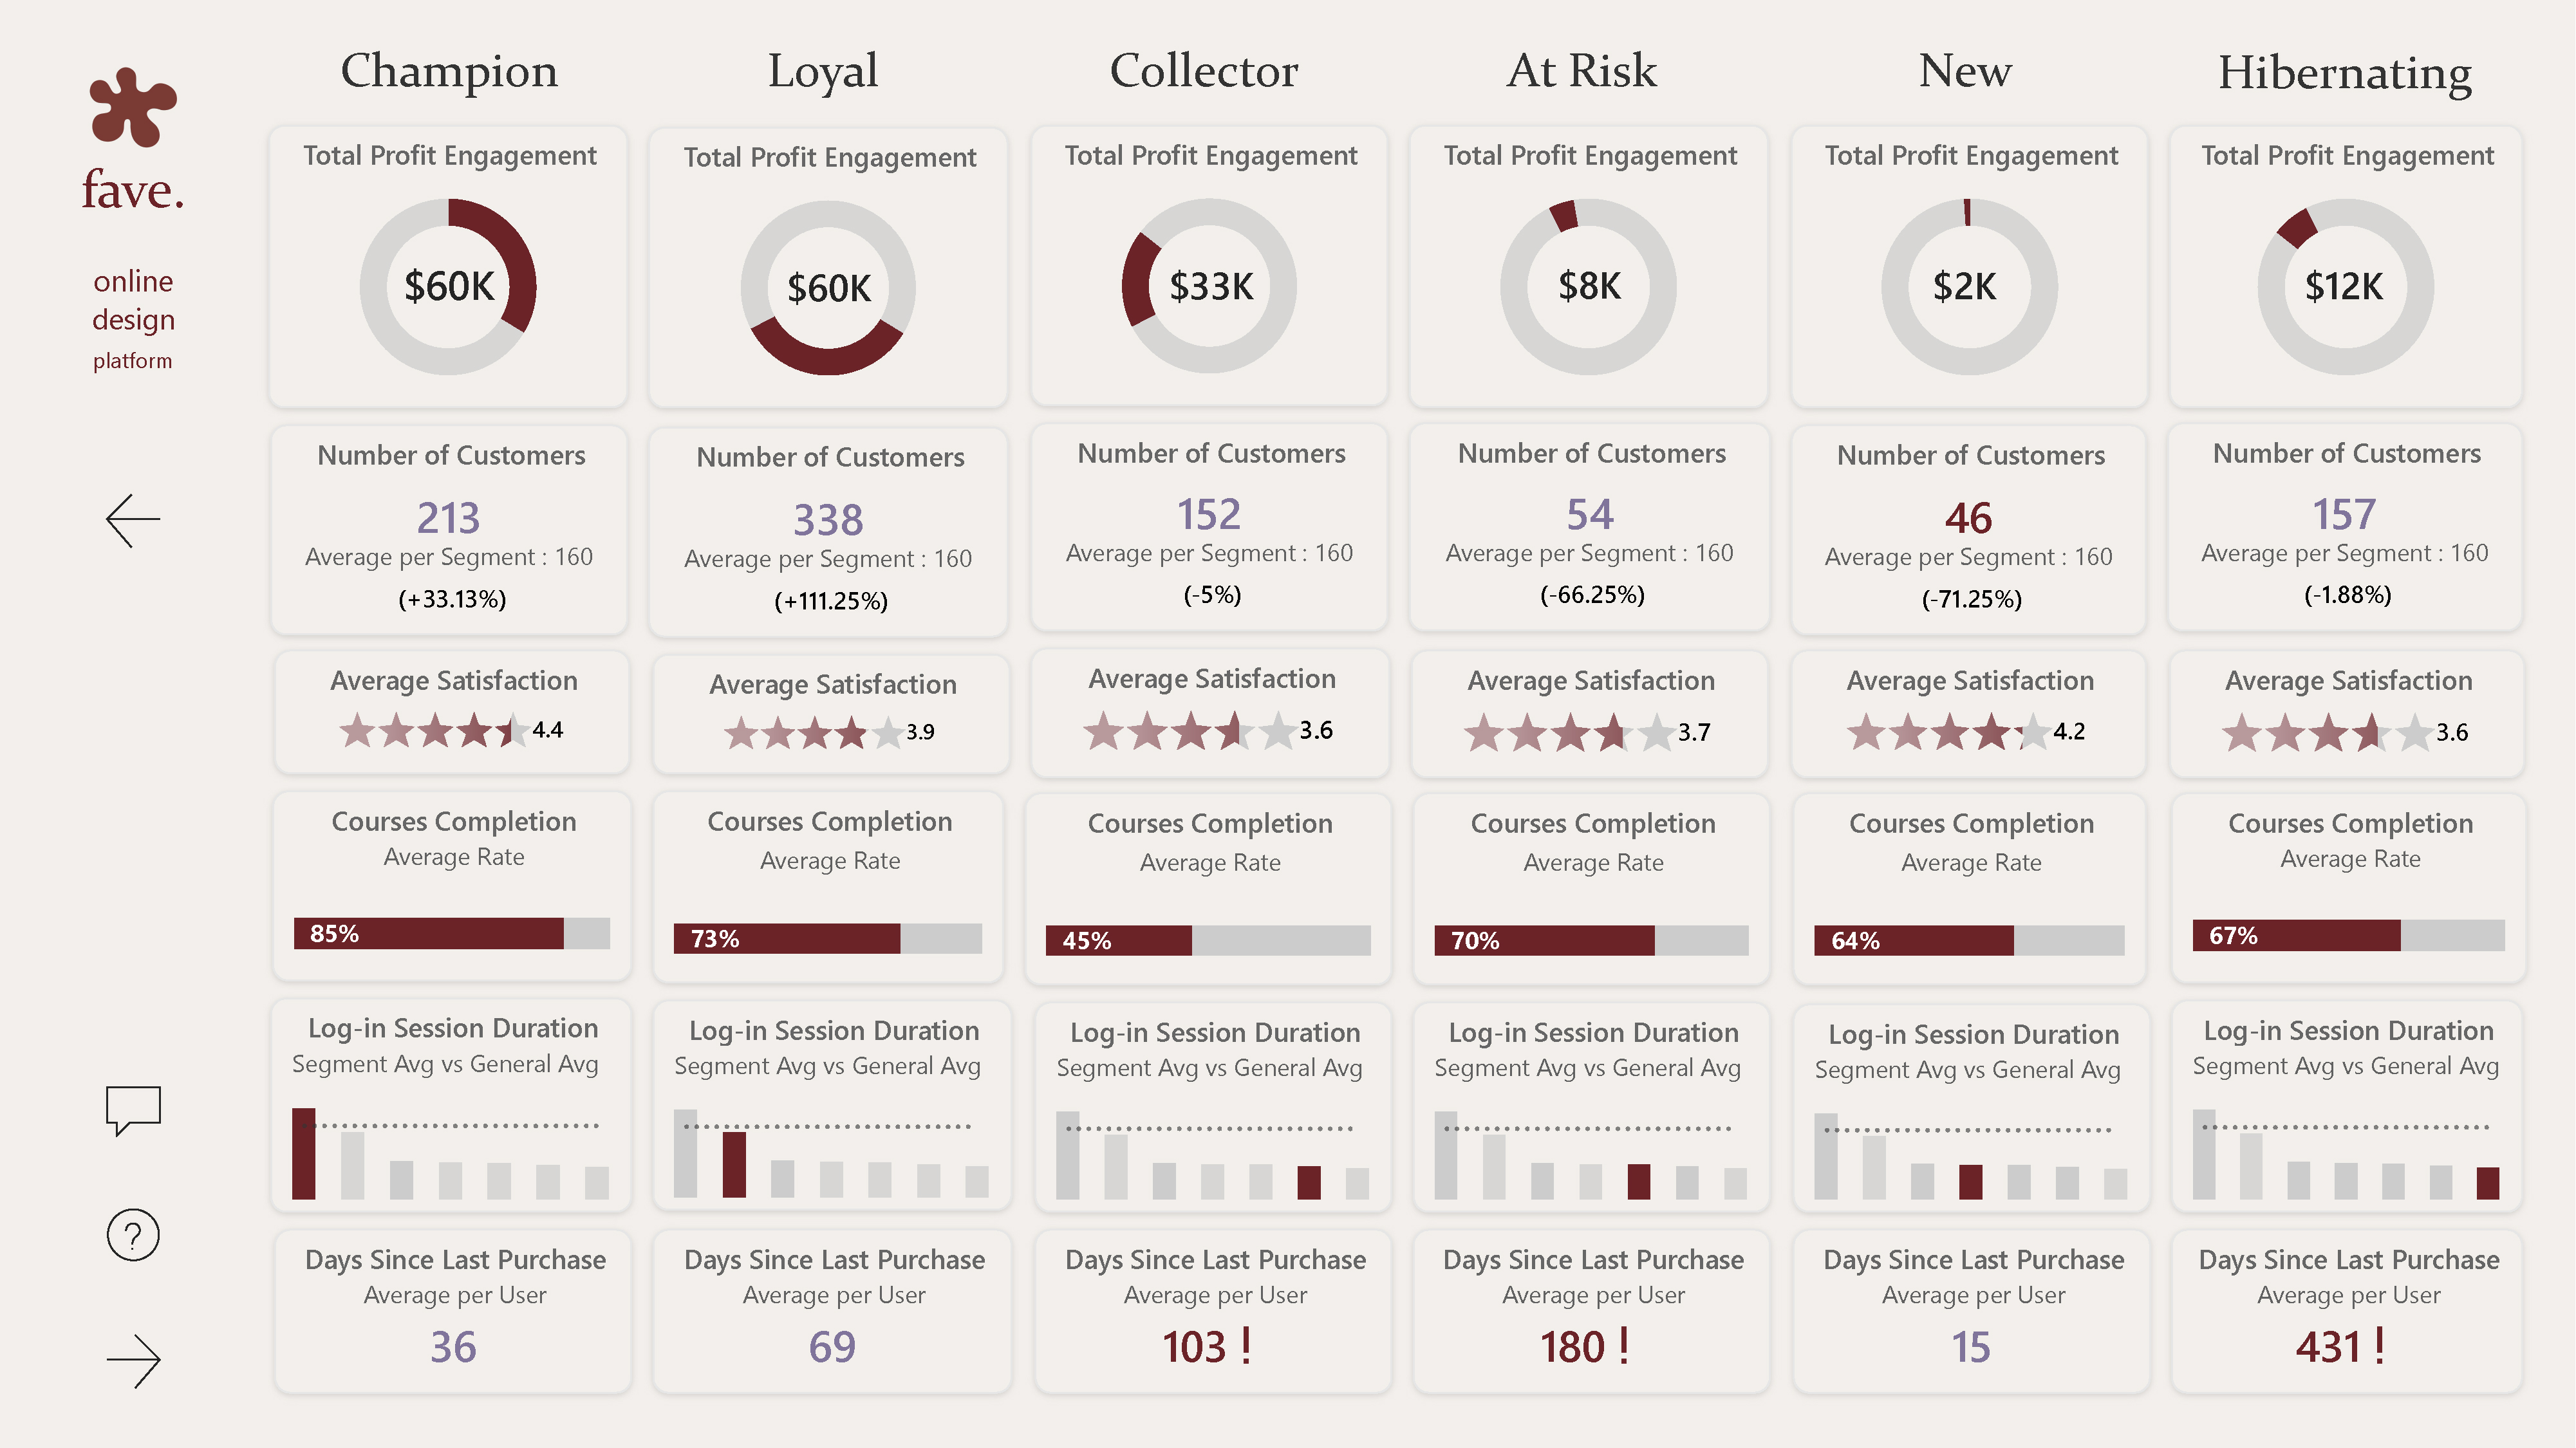

What the dashboard file says about the page in this screenshot:
{"tool":"powerbi","page":{"name":"Segmentation Dashboard","canvas":[1280,720],"ordinal":1},"visuals":[{"type":"image","box":[39.7,28.1,52.5,50],"z":0},{"type":"hundredPercentStackedBarChart","title":"Courses Completion","fields":{"Category":["segmentation.segment"],"Y":["Measure Table.Avg Completion Rate","Measure Table.Avg Miscompletion Rate"]},"box":[135.3,392.7,179,95.1],"z":1000},{"type":"actionButton","box":[43,239.7,45,38.3],"z":2000},{"type":"actionButton","box":[43,593,45,41.7],"z":3000},{"type":"actionButton","box":[43,532.2,45,40.8],"z":4000},{"type":"actionButton","box":[47.2,658.9,36.7,35],"z":5000},{"type":"textbox","box":[32,77.8,68.3,137.8],"z":6000},{"type":"donutChart","title":"Total Profit Engagement","fields":{"Category":["segmentation.segment"],"Y":["Measure Table.Total Profit"]},"box":[133.3,62,179,140.7],"z":7000},{"type":"card","fields":{"Values":["Measure Table.Total Profit"]},"box":[187.8,107.8,70,70],"z":8000},{"type":"donutChart","title":"Total Profit Engagement","fields":{"Category":["segmentation.segment"],"Y":["Measure Table.Total Profit"]},"box":[322.2,62.5,179,140.7],"z":9000},{"type":"card","fields":{"Values":["Measure Table.Total Profit"]},"box":[376.7,107.8,70,73.3],"z":10000},{"type":"donutChart","title":"Total Profit Engagement","fields":{"Category":["segmentation.segment"],"Y":["Measure Table.Total Profit"]},"box":[512.3,61.7,177.8,140.7],"z":11000},{"type":"card","fields":{"Values":["Measure Table.Total Profit"]},"box":[565.6,106.7,72.2,73.3],"z":12000},{"type":"donutChart","title":"Total Profit Engagement","fields":{"Category":["segmentation.segment"],"Y":["Measure Table.Total Profit"]},"box":[700,61.8,179,140.7],"z":13000},{"type":"card","fields":{"Values":["Measure Table.Total Profit"]},"box":[754.4,106.7,71.1,72.2],"z":14000},{"type":"donutChart","title":"Total Profit Engagement","fields":{"Category":["segmentation.segment"],"Y":["Measure Table.Total Profit"]},"box":[890.1,62.3,177.8,140.7],"z":15000},{"type":"card","fields":{"Values":["Measure Table.Total Profit"]},"box":[941.1,106.7,71.1,73.3],"z":16000},{"type":"donutChart","title":"Total Profit Engagement","fields":{"Category":["segmentation.segment"],"Y":["Measure Table.Total Profit"]},"box":[1077.8,61.8,176.5,140.7],"z":17000},{"type":"card","fields":{"Values":["Measure Table.Total Profit"]},"box":[1128.9,106.7,72.2,73.3],"z":18000},{"type":"textbox","box":[133.9,20.3,178.6,33.8],"z":19000},{"type":"textbox","box":[319.7,20.3,178.6,33.8],"z":20000},{"type":"textbox","box":[509.1,20.3,178.6,33.8],"z":21000},{"type":"textbox","box":[697.3,20.3,178.6,33.8],"z":22000},{"type":"textbox","box":[887.9,20.3,178.6,33.8],"z":23000},{"type":"textbox","box":[1076.1,21.5,178.6,32.6],"z":24000},{"type":"PBI_CV_9053509D_D461_463A_B485_CE9F6AB0F13D","title":"Average Satisfaction","fields":{"value":["Measure Table.Avg Segment Rating"]},"box":[135.6,323.1,177.8,61.7],"z":25000},{"type":"kpi","title":"Days Since Last Purchase","fields":{"Goal":["Measure Table.Target Max Recency"],"Indicator":["Measure Table.Avg Recency"],"TrendLine":["calendar.date.Variation.Date Hierarchy.Quarter"]},"box":[1078.9,611.1,175.6,82.2],"z":26000},{"type":"lineClusteredColumnComboChart","title":"Log-in Session Duration","fields":{"Category":["segmentation.segment"],"Y":["Measure Table.Avg Session Duration"],"Y2":["Measure Table.Platform Avg Session Duration"]},"box":[134.4,495.6,180,107.8],"z":27000},{"type":"PBI_CV_9053509D_D461_463A_B485_CE9F6AB0F13D","title":"Average Satisfaction","fields":{"value":["Measure Table.Avg Segment Rating"]},"box":[323.7,324.6,177.8,60.5],"z":28000},{"type":"PBI_CV_9053509D_D461_463A_B485_CE9F6AB0F13D","title":"Average Satisfaction","fields":{"value":["Measure Table.Avg Segment Rating"]},"box":[511.9,322.3,178.9,64.4],"z":29000},{"type":"hundredPercentStackedBarChart","title":"Courses Completion","fields":{"Category":["segmentation.segment"],"Y":["Measure Table.Avg Completion Rate","Measure Table.Avg Miscompletion Rate"]},"box":[324.4,393.3,174.4,95.6],"z":30000},{"type":"lineClusteredColumnComboChart","title":"Log-in Session Duration","fields":{"Category":["segmentation.segment"],"Y":["Measure Table.Avg Session Duration"],"Y2":["Measure Table.Platform Avg Session Duration"]},"box":[324.4,496.7,178.9,105.6],"z":31000},{"type":"PBI_CV_9053509D_D461_463A_B485_CE9F6AB0F13D","title":"Average Satisfaction","fields":{"value":["Measure Table.Avg Segment Rating"]},"box":[701.2,322.5,177.8,64.2],"z":32000},{"type":"PBI_CV_9053509D_D461_463A_B485_CE9F6AB0F13D","title":"Average Satisfaction","fields":{"value":["Measure Table.Avg Segment Rating"]},"box":[890,323.3,176.7,63.3],"z":33000},{"type":"hundredPercentStackedBarChart","title":"Courses Completion","fields":{"Category":["segmentation.segment"],"Y":["Measure Table.Avg Completion Rate","Measure Table.Avg Miscompletion Rate"]},"box":[508.9,394.4,183.3,95.6],"z":34000},{"type":"lineClusteredColumnComboChart","title":"Log-in Session Duration","fields":{"Category":["segmentation.segment"],"Y":["Measure Table.Avg Session Duration"],"Y2":["Measure Table.Platform Avg Session Duration"]},"box":[514.4,497.8,177.8,105.6],"z":35000},{"type":"PBI_CV_9053509D_D461_463A_B485_CE9F6AB0F13D","title":"Average Satisfaction","fields":{"value":["Measure Table.Avg Segment Rating"]},"box":[1077.5,322.5,177.8,64.2],"z":36000},{"type":"hundredPercentStackedBarChart","title":"Courses Completion","fields":{"Category":["segmentation.segment"],"Y":["Measure Table.Avg Completion Rate","Measure Table.Avg Miscompletion Rate"]},"box":[702.4,394.5,177.8,95.1],"z":37000},{"type":"lineClusteredColumnComboChart","title":"Log-in Session Duration","fields":{"Category":["segmentation.segment"],"Y":["Measure Table.Avg Session Duration"],"Y2":["Measure Table.Platform Avg Session Duration"]},"box":[702.2,497.8,177.8,105.6],"z":38000},{"type":"hundredPercentStackedBarChart","title":"Courses Completion","fields":{"Category":["segmentation.segment"],"Y":["Measure Table.Avg Completion Rate","Measure Table.Avg Miscompletion Rate"]},"box":[891.1,394.4,175.6,95.6],"z":39000},{"type":"lineClusteredColumnComboChart","title":"Log-in Session Duration","fields":{"Category":["segmentation.segment"],"Y":["Measure Table.Avg Session Duration"],"Y2":["Measure Table.Platform Avg Session Duration"]},"box":[891.1,498.9,177.8,104.4],"z":40000},{"type":"hundredPercentStackedBarChart","title":"Courses Completion","fields":{"Category":["segmentation.segment"],"Y":["Measure Table.Avg Completion Rate","Measure Table.Avg Miscompletion Rate"]},"box":[1078.9,394.5,176.7,94.4],"z":41000},{"type":"lineClusteredColumnComboChart","title":"Log-in Session Duration","fields":{"Category":["segmentation.segment"],"Y":["Measure Table.Avg Session Duration"],"Y2":["Measure Table.Platform Avg Session Duration"]},"box":[1078.9,496.7,175.6,106.7],"z":42000},{"type":"kpi","title":"Days Since Last Purchase","fields":{"Goal":["Measure Table.Target Max Recency"],"Indicator":["Measure Table.Avg Recency"],"TrendLine":["calendar.date.Variation.Date Hierarchy.Quarter"]},"box":[891.1,611.1,177.8,82.2],"z":43000},{"type":"kpi","title":"Days Since Last Purchase","fields":{"Goal":["Measure Table.Target Max Recency"],"Indicator":["Measure Table.Avg Recency"],"TrendLine":["calendar.date.Variation.Date Hierarchy.Quarter"]},"box":[702.2,611.1,177.8,82.2],"z":44000},{"type":"kpi","title":"Days Since Last Purchase","fields":{"Goal":["Measure Table.Target Max Recency"],"Indicator":["Measure Table.Avg Recency"],"TrendLine":["calendar.date.Variation.Date Hierarchy.Quarter"]},"box":[514.4,611.1,177.8,82.2],"z":45000},{"type":"kpi","title":"Days Since Last Purchase","fields":{"Goal":["Measure Table.Target Max Recency"],"Indicator":["Measure Table.Avg Recency"],"TrendLine":["calendar.date.Variation.Date Hierarchy.Quarter"]},"box":[324.4,611.1,178.9,82.2],"z":46000},{"type":"kpi","title":"Days Since Last Purchase","fields":{"Goal":["Measure Table.Target Max Recency"],"Indicator":["Measure Table.Avg Recency"],"TrendLine":["calendar.date.Variation.Date Hierarchy.Quarter"]},"box":[135.6,611.1,178.9,82.2],"z":47000},{"type":"kpi","title":"Number of Customers","fields":{"Goal":["Measure Table.Avg Number of Customers per Segment"],"Indicator":["Measure Table.Total Customers"],"TrendLine":["calendar.date"]},"box":[1076.7,210,177.8,104.4],"z":48000},{"type":"kpi","title":"Number of Customers","fields":{"Goal":["Measure Table.Avg Number of Customers per Segment"],"Indicator":["Measure Table.Total Customers"],"TrendLine":["calendar.date"]},"box":[890,211.1,176.7,104.4],"z":49000},{"type":"kpi","title":"Number of Customers","fields":{"Goal":["Measure Table.Avg Number of Customers per Segment"],"Indicator":["Measure Table.Total Customers"],"TrendLine":["calendar.date"]},"box":[700,210,180,104.4],"z":50000},{"type":"kpi","title":"Number of Customers","fields":{"Goal":["Measure Table.Avg Number of Customers per Segment"],"Indicator":["Measure Table.Total Customers"],"TrendLine":["calendar.date"]},"box":[512.2,210,177.8,104.4],"z":51000},{"type":"kpi","title":"Number of Customers","fields":{"Goal":["Measure Table.Avg Number of Customers per Segment"],"Indicator":["Measure Table.Total Customers"],"TrendLine":["calendar.date"]},"box":[322.2,212.2,178.9,104.4],"z":52000},{"type":"kpi","title":"Number of Customers","fields":{"Goal":["Measure Table.Avg Number of Customers per Segment"],"Indicator":["Measure Table.Total Customers"],"TrendLine":["calendar.date"]},"box":[134.4,211.1,177.8,104.4],"z":53000}]}

Visuals, with their boxes in screenshot pixels (x1, y1, x2, y2), scaled from the page's 1280x720 canvas onto the 2576x1448 screenshot:
image: detection(80, 57, 185, 157)
"Courses Completion" hundredPercentStackedBarChart: detection(272, 790, 633, 981)
actionButton: detection(86, 482, 177, 559)
actionButton: detection(86, 1193, 177, 1276)
actionButton: detection(86, 1070, 177, 1153)
actionButton: detection(95, 1325, 169, 1395)
textbox: detection(64, 156, 202, 434)
"Total Profit Engagement" donutChart: detection(268, 125, 628, 407)
card - Measure Table.Total Profit: detection(378, 217, 519, 358)
"Total Profit Engagement" donutChart: detection(648, 125, 1009, 409)
card - Measure Table.Total Profit: detection(758, 217, 899, 364)
"Total Profit Engagement" donutChart: detection(1031, 124, 1389, 407)
card - Measure Table.Total Profit: detection(1138, 214, 1283, 362)
"Total Profit Engagement" donutChart: detection(1409, 124, 1769, 407)
card - Measure Table.Total Profit: detection(1518, 214, 1661, 360)
"Total Profit Engagement" donutChart: detection(1791, 125, 2149, 408)
card - Measure Table.Total Profit: detection(1894, 214, 2037, 362)
"Total Profit Engagement" donutChart: detection(2169, 124, 2525, 407)
card - Measure Table.Total Profit: detection(2272, 214, 2417, 362)
textbox: detection(270, 41, 629, 109)
textbox: detection(644, 41, 1003, 109)
textbox: detection(1025, 41, 1384, 109)
textbox: detection(1403, 41, 1763, 109)
textbox: detection(1787, 41, 2146, 109)
textbox: detection(2165, 43, 2525, 109)
"Average Satisfaction" PBI_CV_9053509D_D461_463A_B485_CE9F6AB0F13D: detection(273, 650, 631, 774)
"Days Since Last Purchase" kpi: detection(2171, 1229, 2525, 1395)
"Log-in Session Duration" lineClusteredColumnComboChart: detection(270, 997, 633, 1214)
"Average Satisfaction" PBI_CV_9053509D_D461_463A_B485_CE9F6AB0F13D: detection(651, 653, 1009, 774)
"Average Satisfaction" PBI_CV_9053509D_D461_463A_B485_CE9F6AB0F13D: detection(1030, 648, 1390, 777)
"Courses Completion" hundredPercentStackedBarChart: detection(653, 791, 1004, 983)
"Log-in Session Duration" lineClusteredColumnComboChart: detection(653, 999, 1013, 1211)
"Average Satisfaction" PBI_CV_9053509D_D461_463A_B485_CE9F6AB0F13D: detection(1411, 649, 1769, 777)
"Average Satisfaction" PBI_CV_9053509D_D461_463A_B485_CE9F6AB0F13D: detection(1791, 650, 2147, 777)
"Courses Completion" hundredPercentStackedBarChart: detection(1024, 793, 1393, 985)
"Log-in Session Duration" lineClusteredColumnComboChart: detection(1035, 1001, 1393, 1214)
"Average Satisfaction" PBI_CV_9053509D_D461_463A_B485_CE9F6AB0F13D: detection(2169, 649, 2526, 777)
"Courses Completion" hundredPercentStackedBarChart: detection(1414, 794, 1771, 985)
"Log-in Session Duration" lineClusteredColumnComboChart: detection(1413, 1001, 1771, 1214)
"Courses Completion" hundredPercentStackedBarChart: detection(1793, 793, 2147, 985)
"Log-in Session Duration" lineClusteredColumnComboChart: detection(1793, 1003, 2151, 1213)
"Courses Completion" hundredPercentStackedBarChart: detection(2171, 794, 2527, 983)
"Log-in Session Duration" lineClusteredColumnComboChart: detection(2171, 999, 2525, 1214)
"Days Since Last Purchase" kpi: detection(1793, 1229, 2151, 1395)
"Days Since Last Purchase" kpi: detection(1413, 1229, 1771, 1395)
"Days Since Last Purchase" kpi: detection(1035, 1229, 1393, 1395)
"Days Since Last Purchase" kpi: detection(653, 1229, 1013, 1395)
"Days Since Last Purchase" kpi: detection(273, 1229, 633, 1395)
"Number of Customers" kpi: detection(2167, 422, 2525, 632)
"Number of Customers" kpi: detection(1791, 425, 2147, 635)
"Number of Customers" kpi: detection(1409, 422, 1771, 632)
"Number of Customers" kpi: detection(1031, 422, 1388, 632)
"Number of Customers" kpi: detection(648, 427, 1009, 636)
"Number of Customers" kpi: detection(270, 425, 628, 635)
